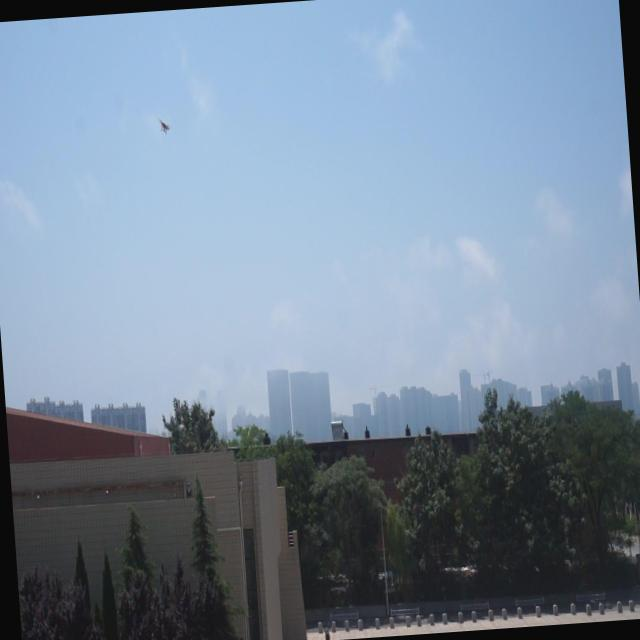drone: (156, 114, 172, 137)
